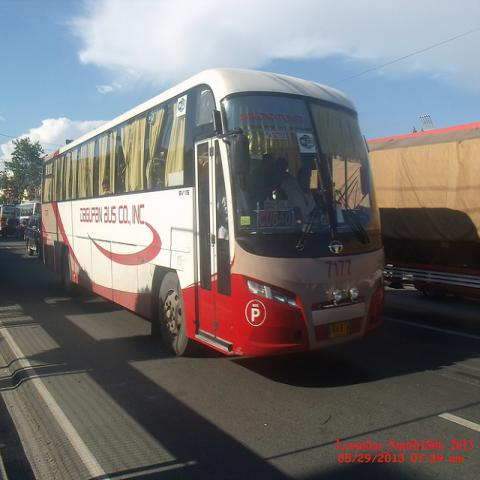bus: (42, 70, 385, 359), (15, 200, 42, 223), (0, 206, 16, 218)
car: (24, 216, 41, 258), (1, 218, 20, 239), (15, 218, 30, 239)
